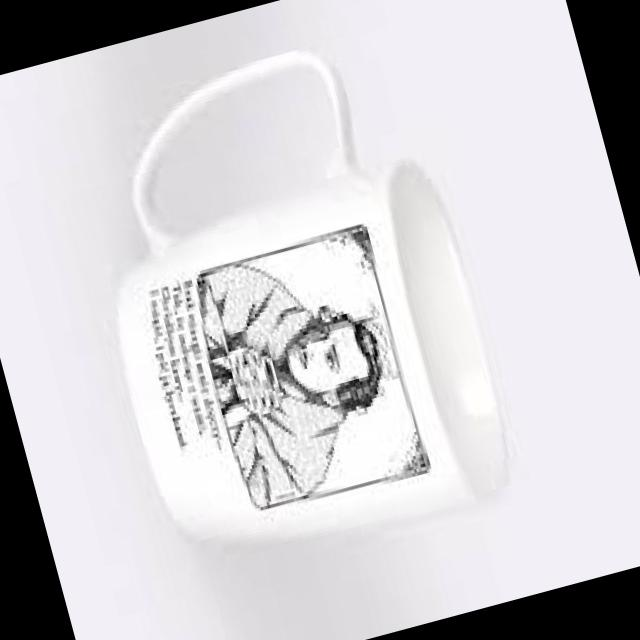Coffee Mug: (54, 25, 525, 587)
